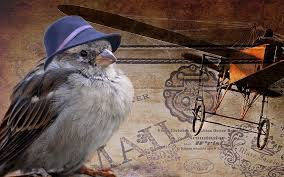hsparrow: (1, 38, 135, 176)
